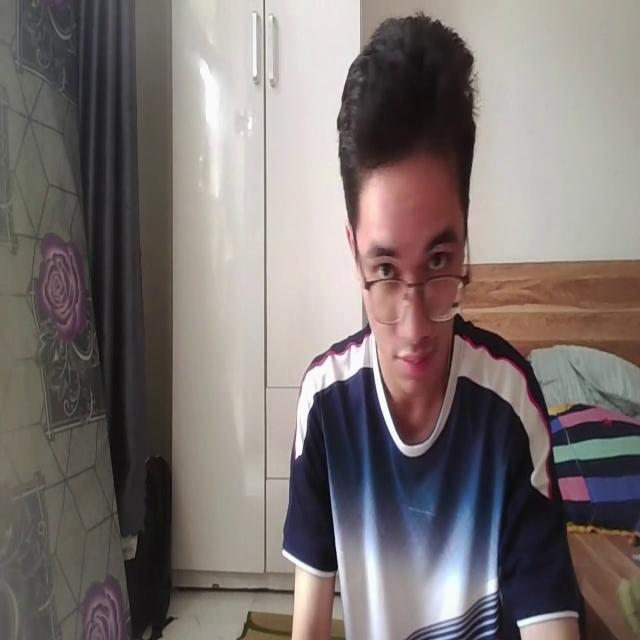student: (285, 0, 580, 640)
